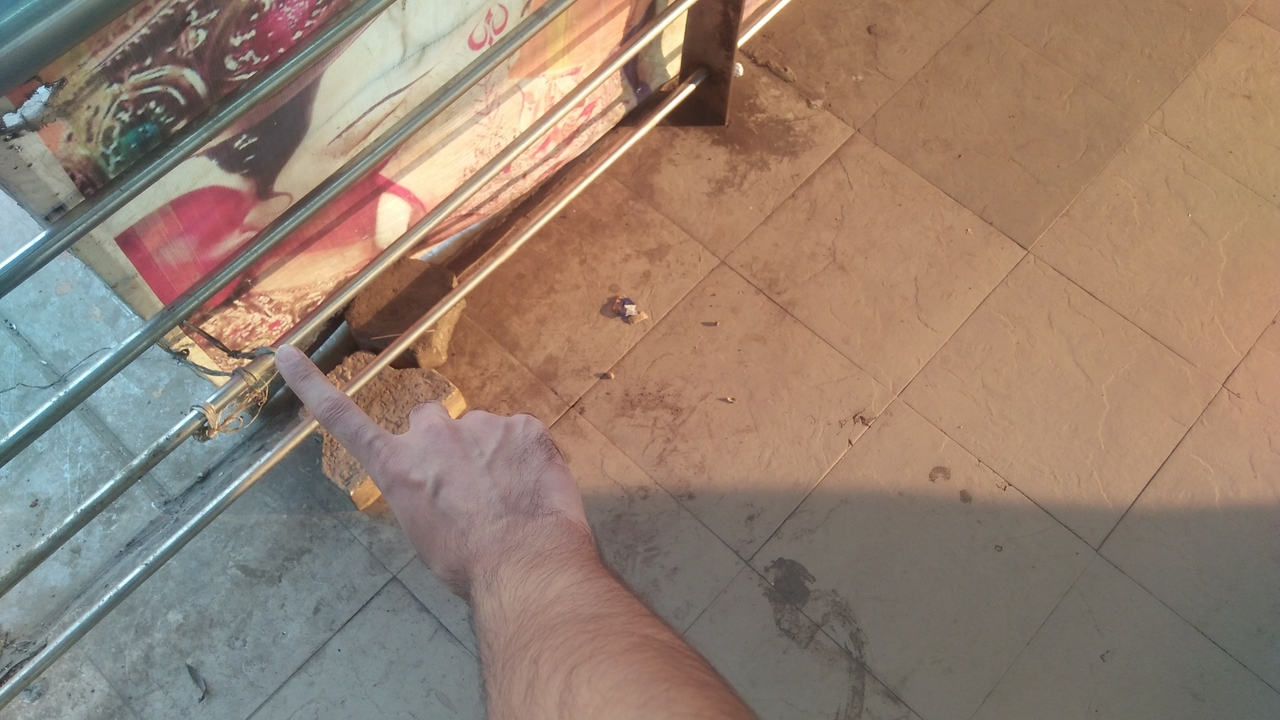fingertip: (257, 342, 316, 375)
